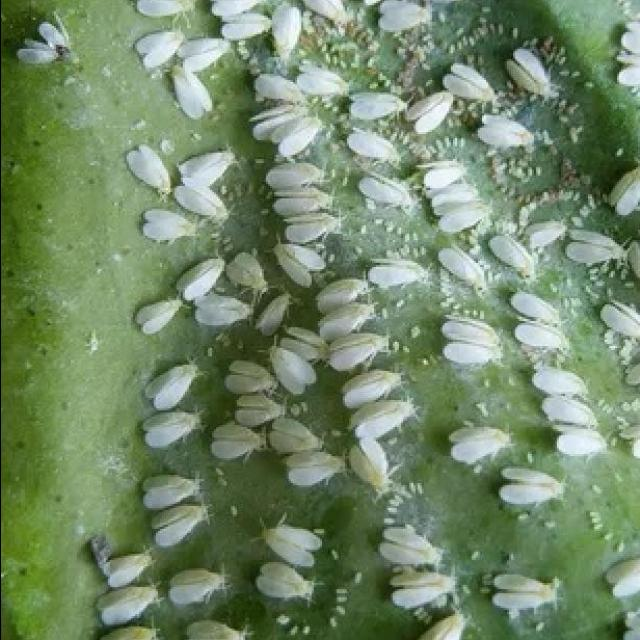Whitefly: (88, 0, 640, 640), (0, 0, 79, 89)
